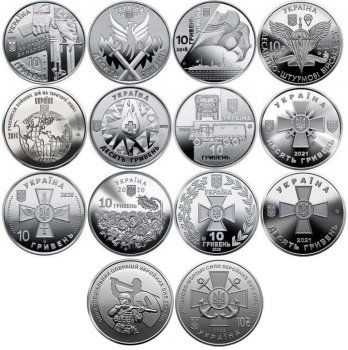coin: (176, 259, 264, 347), (86, 258, 175, 345), (174, 170, 259, 259), (257, 86, 343, 171), (2, 172, 88, 257), (89, 172, 174, 257), (257, 2, 343, 86), (4, 88, 88, 172), (261, 172, 345, 256), (88, 1, 171, 85), (174, 1, 257, 84), (3, 1, 85, 84), (175, 87, 257, 168), (90, 88, 171, 168)
